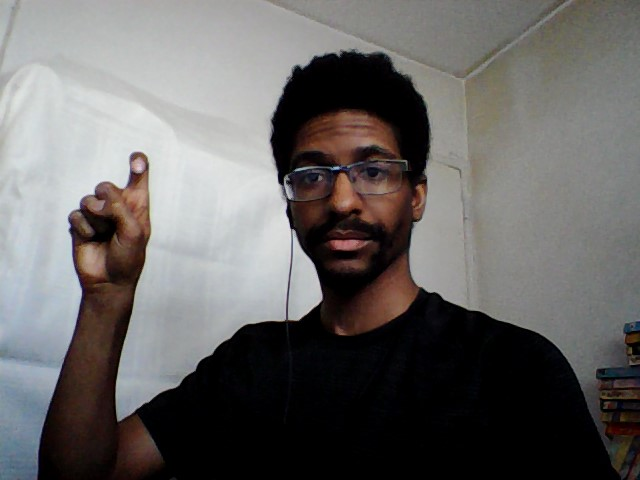x: (64, 144, 158, 288)
